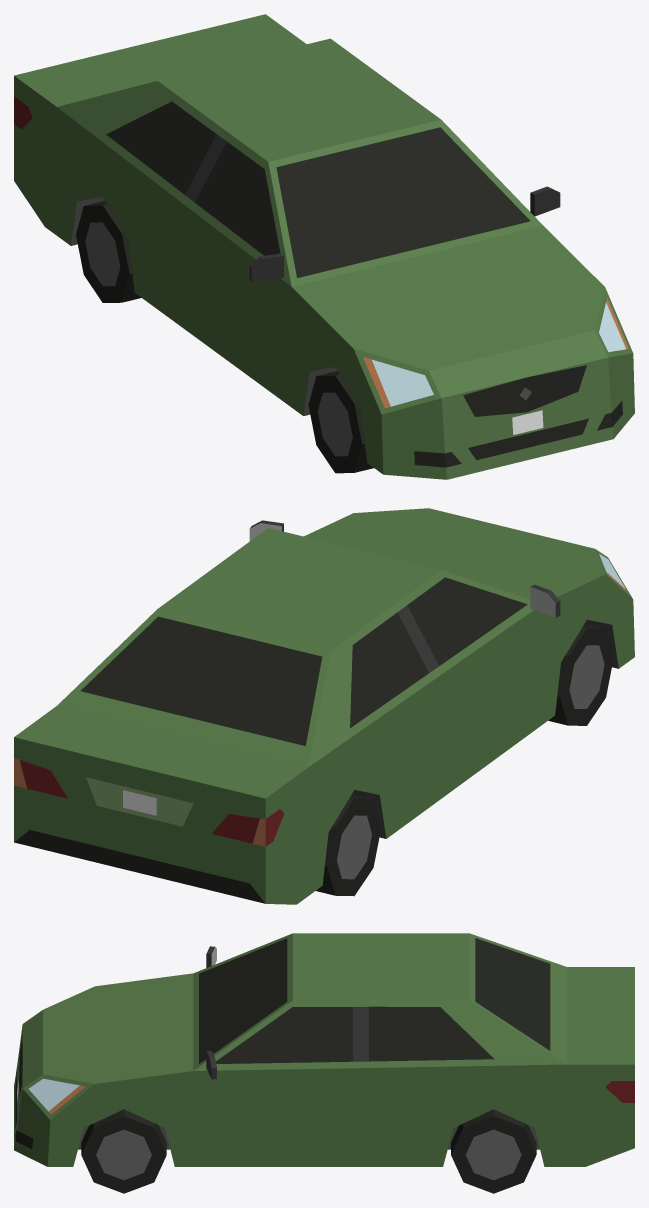
Rendered from Veh_Sedan_03_Green.obj.
The picture shows the model from 3 angles, top to bottom: view 1: azimuth 30°, elevation 25°; view 2: azimuth 150°, elevation 25°; view 3: azimuth 270°, elevation 25°; orthographic projection. The views are drawn at different scales.
Size of the model in its own units: 1.19 by 0.8272 by 2.61.
